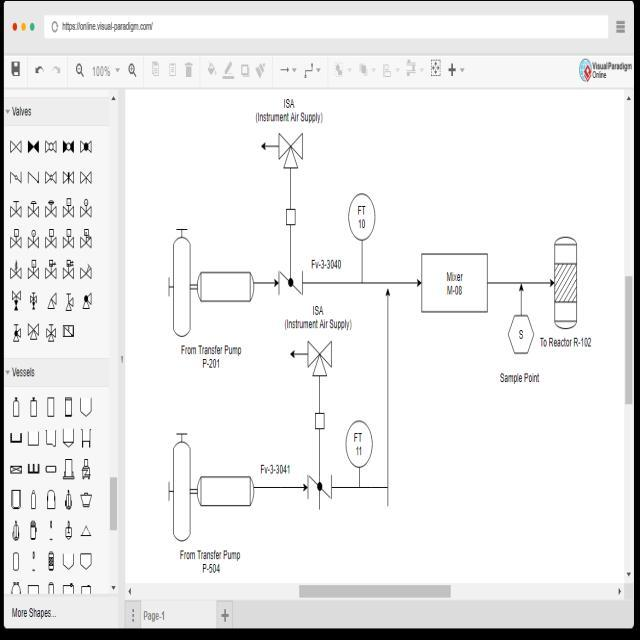3 Way Gate Valve: (276, 125, 308, 175), (308, 332, 332, 380)
Butterfly Valve: (306, 466, 333, 506), (276, 265, 306, 300)
